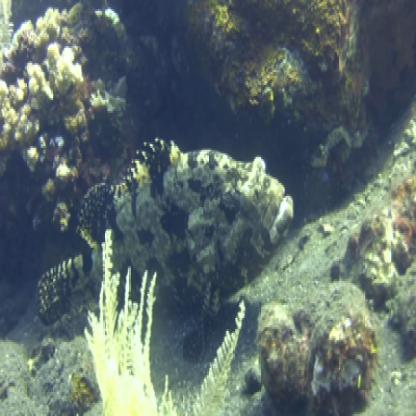Serranidae -Groupers-: (34, 133, 300, 366)
